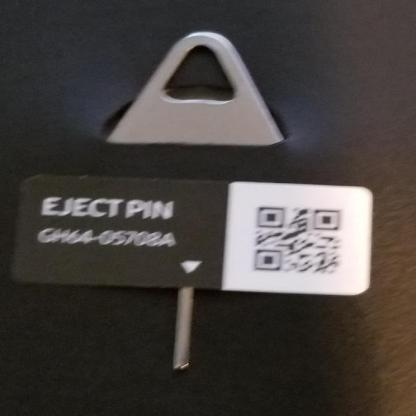qr: (249, 203, 349, 279)
